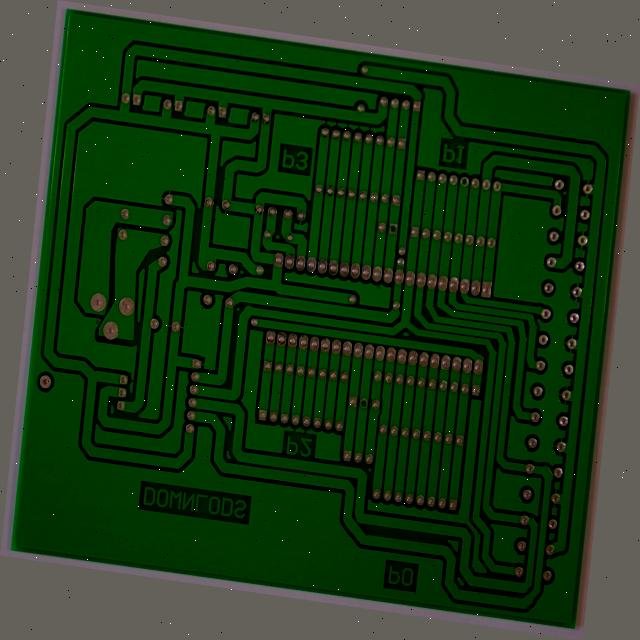missing_hole: (370, 399, 383, 415), (381, 197, 394, 212), (455, 130, 466, 147)
